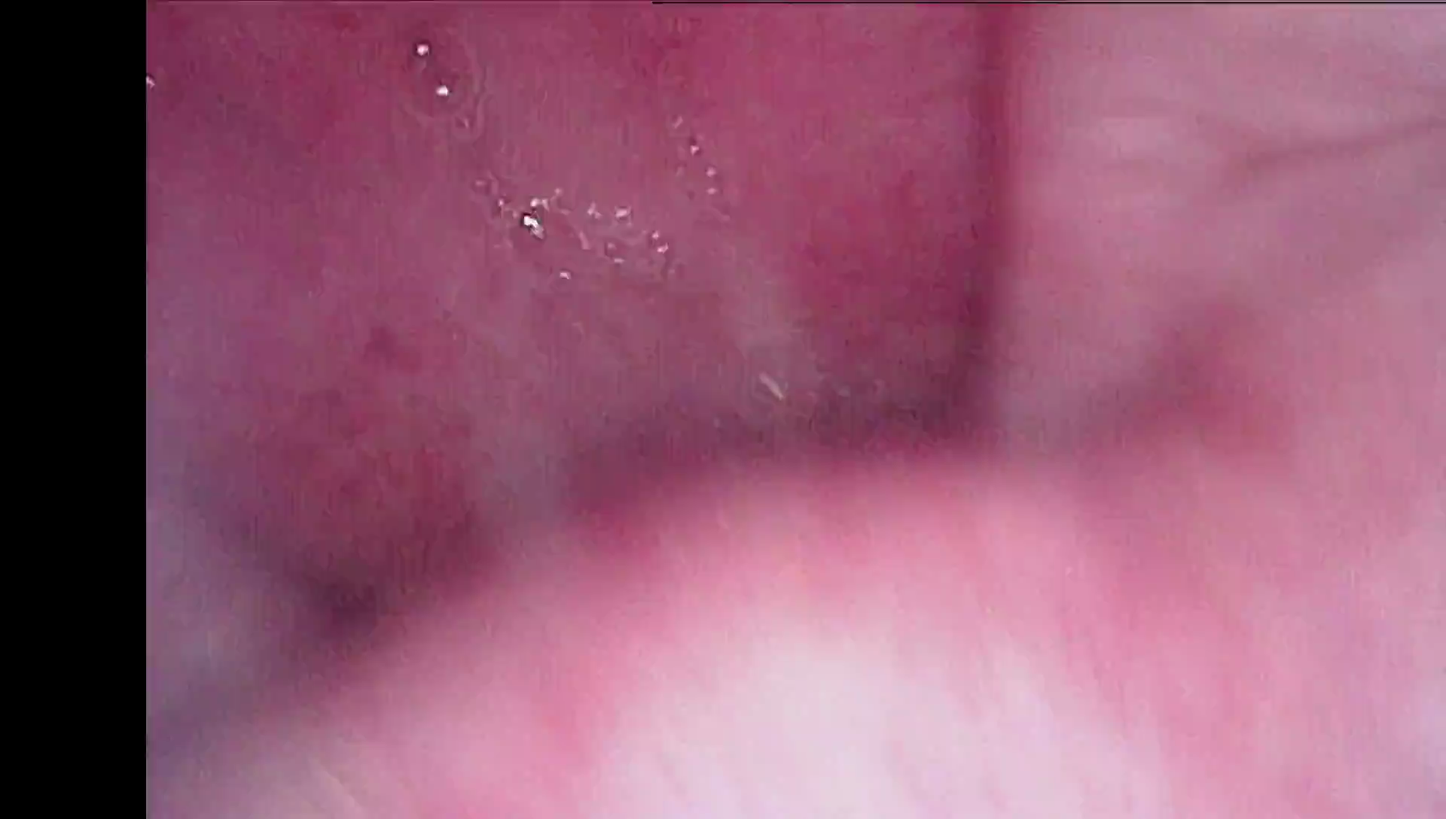close_wall: (572, 570, 1287, 819)
